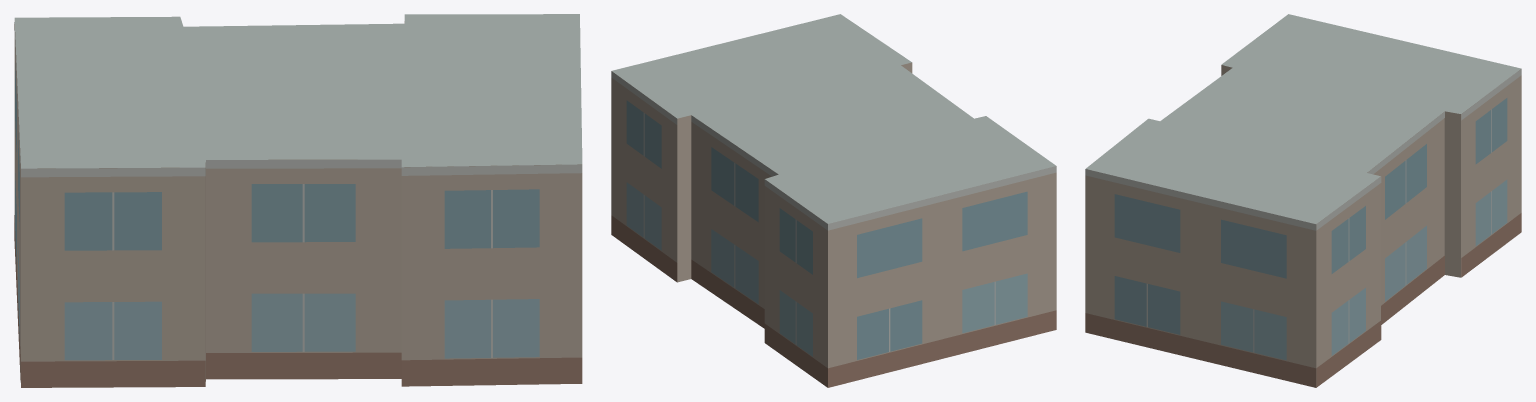
Rendered from survey-upis-32920495.glb.
The picture shows the model from 3 angles, left to right: view 1: azimuth 30°, elevation 25°; view 2: azimuth 150°, elevation 25°; view 3: azimuth 270°, elevation 25°; orthographic projection. The views are drawn at different scales.
Parts seen in each view (by area): view 1: survey-upis-32920495.tmp; view 2: survey-upis-32920495.tmp; view 3: survey-upis-32920495.tmp.
Boxes of the visible parts, <box> form: survey-upis-32920495.tmp: <box>14,14,582,387</box>; survey-upis-32920495.tmp: <box>611,14,1056,387</box>; survey-upis-32920495.tmp: <box>1085,14,1521,387</box>.
Bounding box in the file's own units: 16.82 × 6.1 × 14.75.
